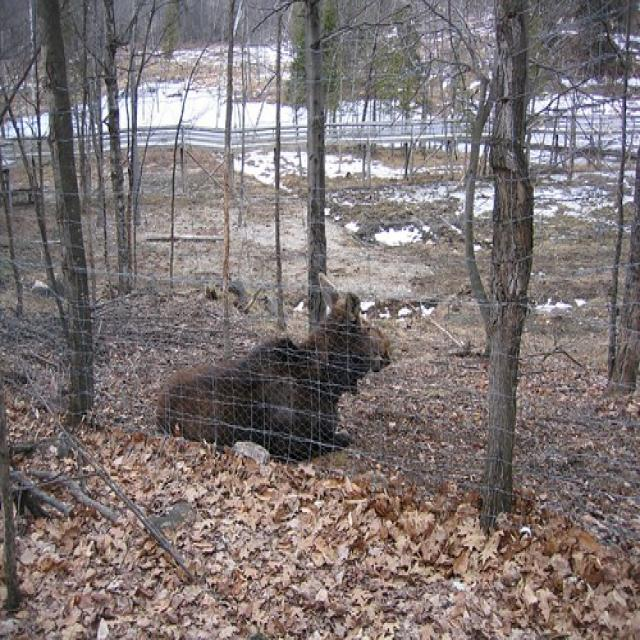boar: (133, 270, 401, 493)
